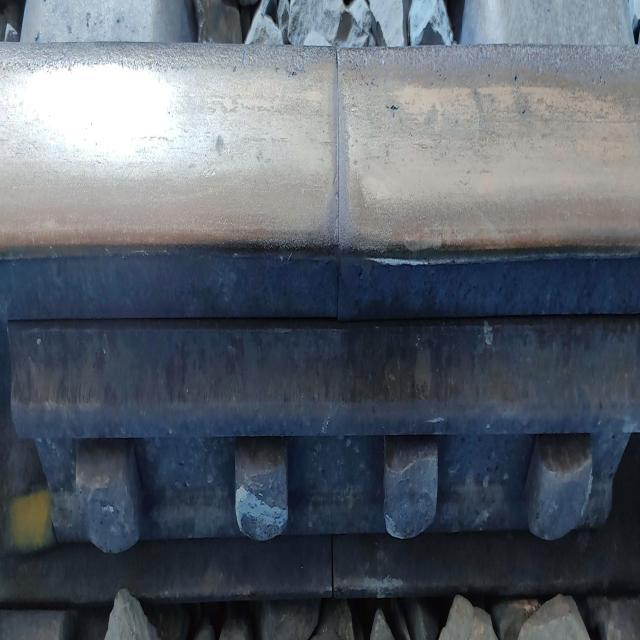Good Joint: (10, 324, 638, 552)
